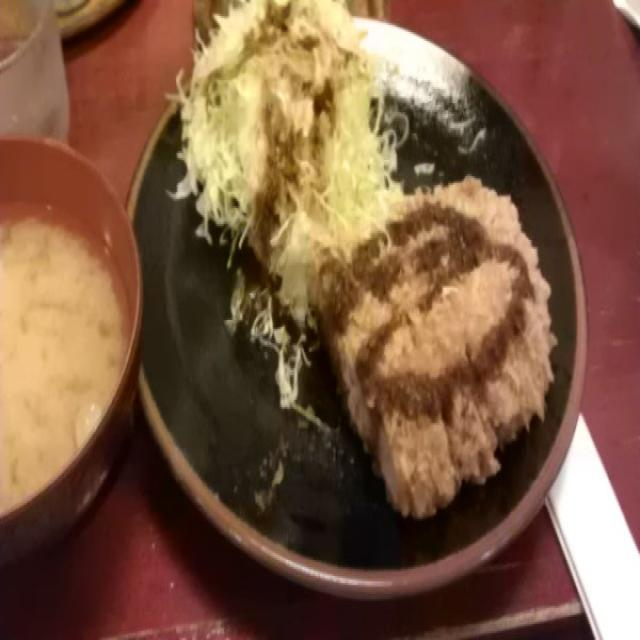汤锅炖物: (1, 114, 137, 546)
蔬菜料理: (182, 0, 421, 268)
